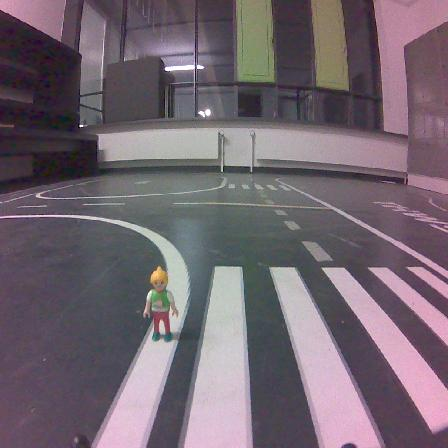CHILD: (143, 266, 178, 341)
